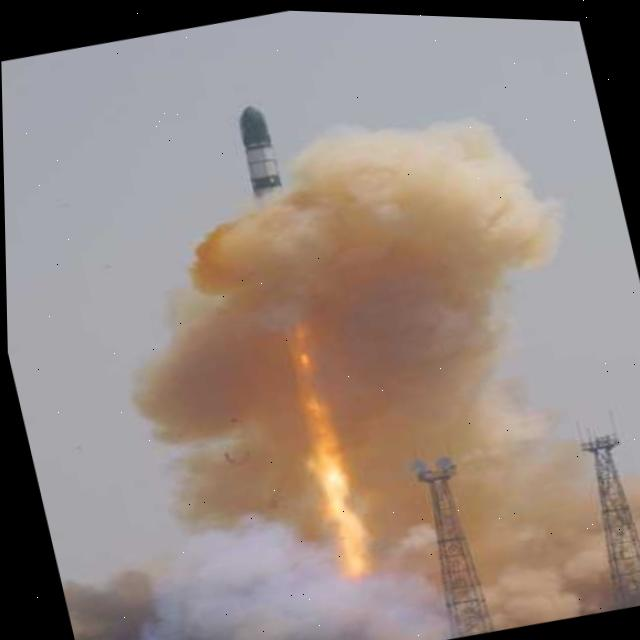missile: (224, 91, 340, 371)
